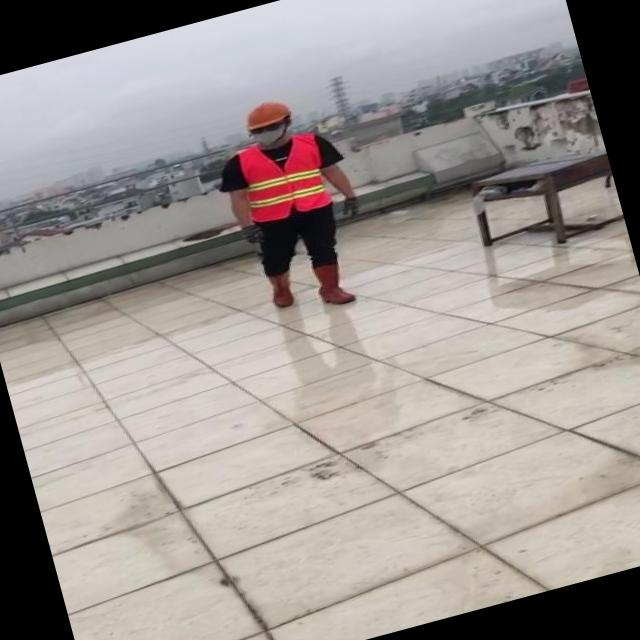boots: (312, 259, 356, 311), (266, 268, 298, 310)
helmet: (237, 94, 296, 132)
vest: (236, 126, 334, 224)
